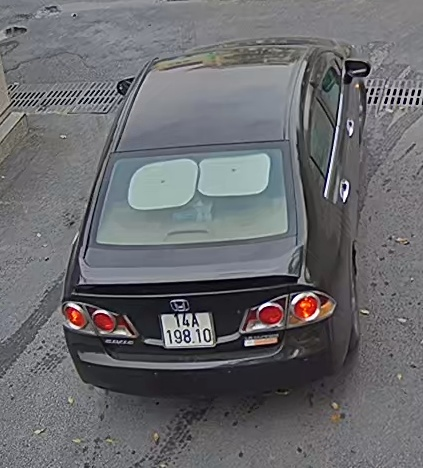vehicle plate: (155, 308, 223, 348)
